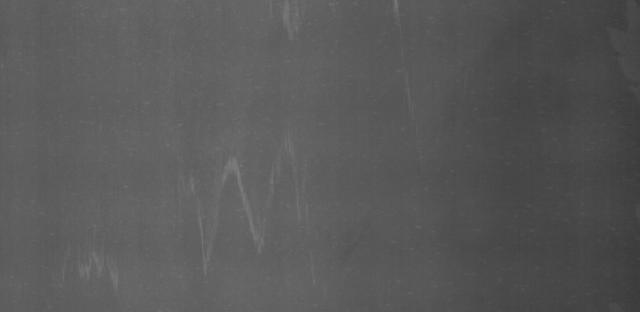silk_spot: (179, 146, 297, 286), (78, 234, 126, 294), (270, 3, 328, 42)
